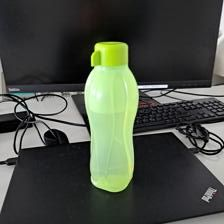bottle: (82, 40, 140, 194)
